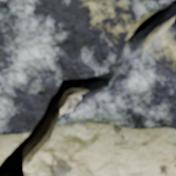broken_brick: (0, 0, 170, 135), (64, 24, 175, 129)
crack: (0, 0, 175, 175)
